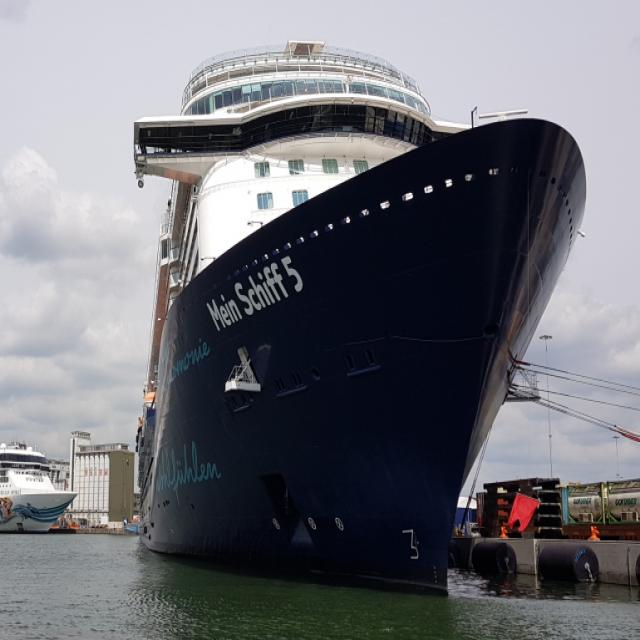cruises: (121, 52, 592, 622)
